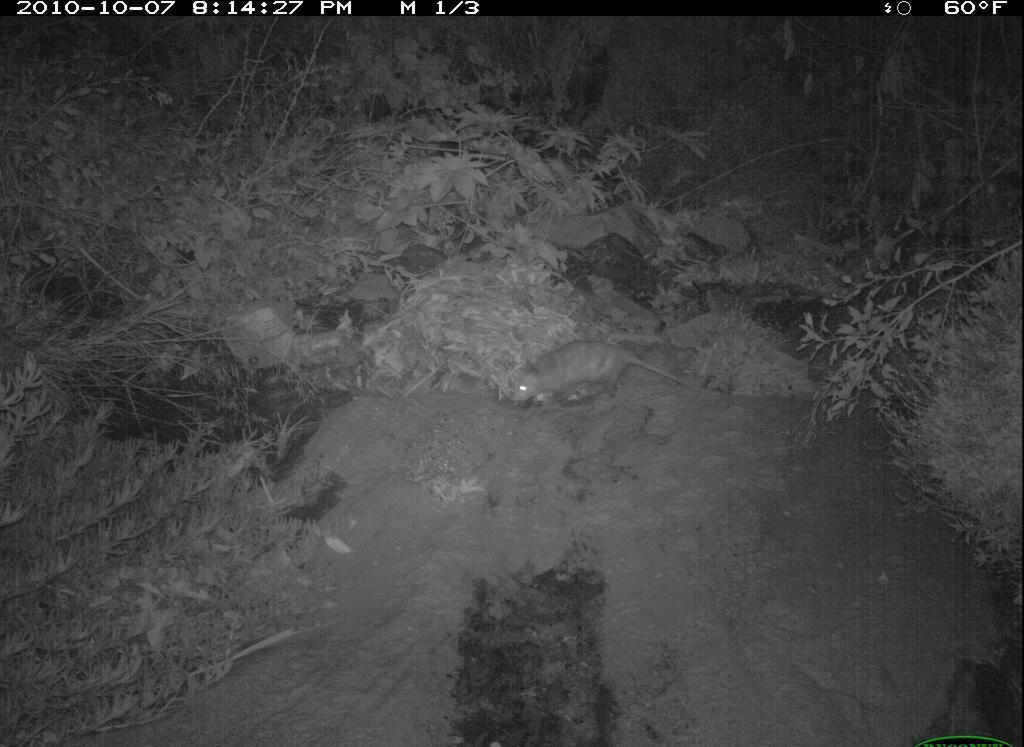opossum: (493, 328, 667, 412)
